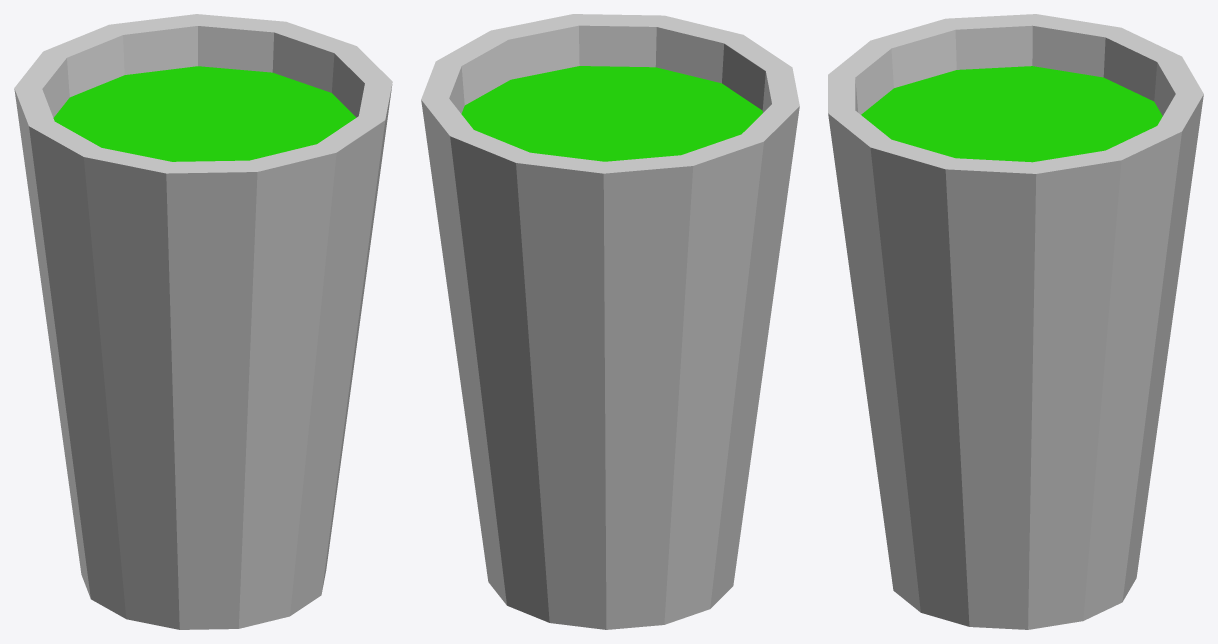
Rendered from Cup.fbx.
The picture shows the model from 3 angles, left to right: view 1: azimuth 30°, elevation 25°; view 2: azimuth 150°, elevation 25°; view 3: azimuth 270°, elevation 25°; orthographic projection.
Parts seen in each view (by area): view 1: Cup, Cylinder; view 2: Cup, Cylinder; view 3: Cup, Cylinder.
Boxes of the visible parts, box(x1,y1,x2,y2) form: Cup: box(14, 14, 392, 629); Cylinder: box(53, 66, 356, 161); Cup: box(421, 14, 799, 629); Cylinder: box(461, 66, 762, 161); Cup: box(828, 14, 1203, 629); Cylinder: box(861, 66, 1162, 162).
Size of the model in its own units: 14.64 by 20.66 by 14.54.
